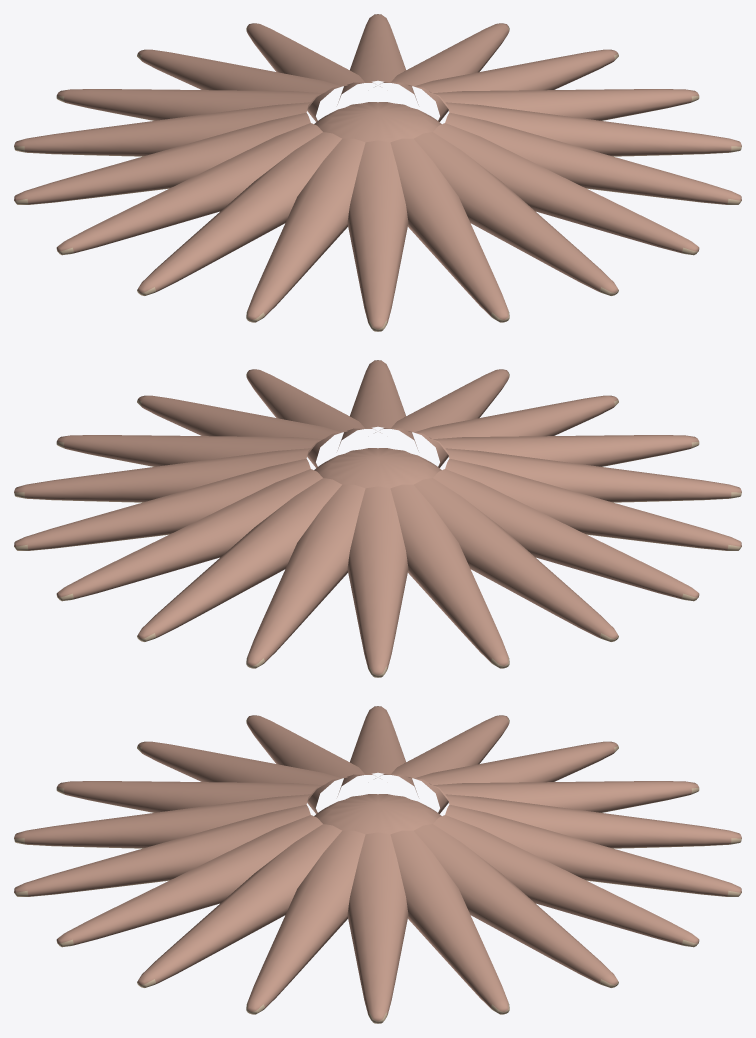
The model's file is sunflower_star.glb.
The picture shows the model from 3 angles, top to bottom: view 1: azimuth 30°, elevation 25°; view 2: azimuth 150°, elevation 25°; view 3: azimuth 270°, elevation 25°; orthographic projection.
Visible parts, largest first — view 1: sunflower_star; view 2: sunflower_star; view 3: sunflower_star.
Part boxes in pixels (x1=…): sunflower_star: x1=14, y1=14, x2=741, y2=331; sunflower_star: x1=14, y1=360, x2=741, y2=677; sunflower_star: x1=14, y1=706, x2=741, y2=1023.
Bounding box in the file's own units: 0.8003 × 0.1 × 0.7882.
